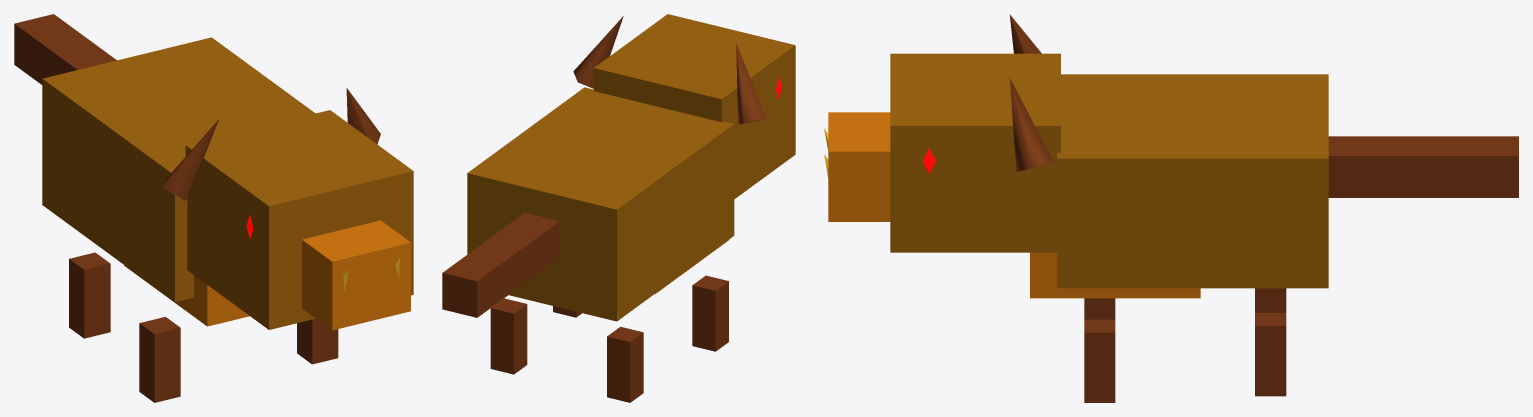
File: MeerimRatA.glb
3 renders of one model, left to right at view 1: azimuth 30°, elevation 25°; view 2: azimuth 150°, elevation 25°; view 3: azimuth 270°, elevation 25°, orthographic. The views are drawn at different scales.
Visible parts, largest first — view 1: MeerimRatBody; view 2: MeerimRatBody; view 3: MeerimRatBody.
Part boxes in pixels (box(x1,y1,x2,y2)): MeerimRatBody: box(14, 14, 413, 402); MeerimRatBody: box(442, 14, 795, 402); MeerimRatBody: box(824, 14, 1518, 402).
Size of the model in its own units: 0.3328 by 0.4428 by 0.8956.
